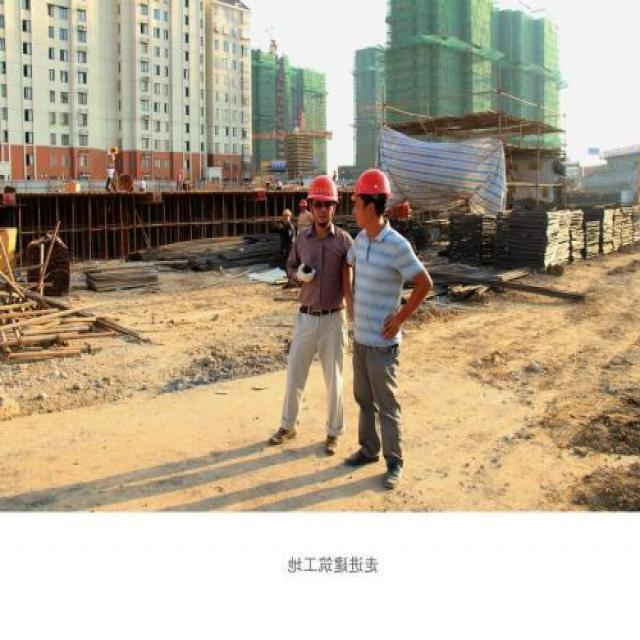face_nomask: (310, 198, 336, 225), (348, 196, 369, 225)
glasses: (312, 198, 336, 212)
hand_noglove: (377, 308, 404, 343)
head_helmet: (350, 166, 394, 199), (304, 173, 342, 202)
person: (264, 172, 358, 456), (347, 165, 428, 491)
shoes: (377, 455, 406, 494), (345, 441, 382, 468), (268, 422, 300, 449), (318, 429, 344, 459)
